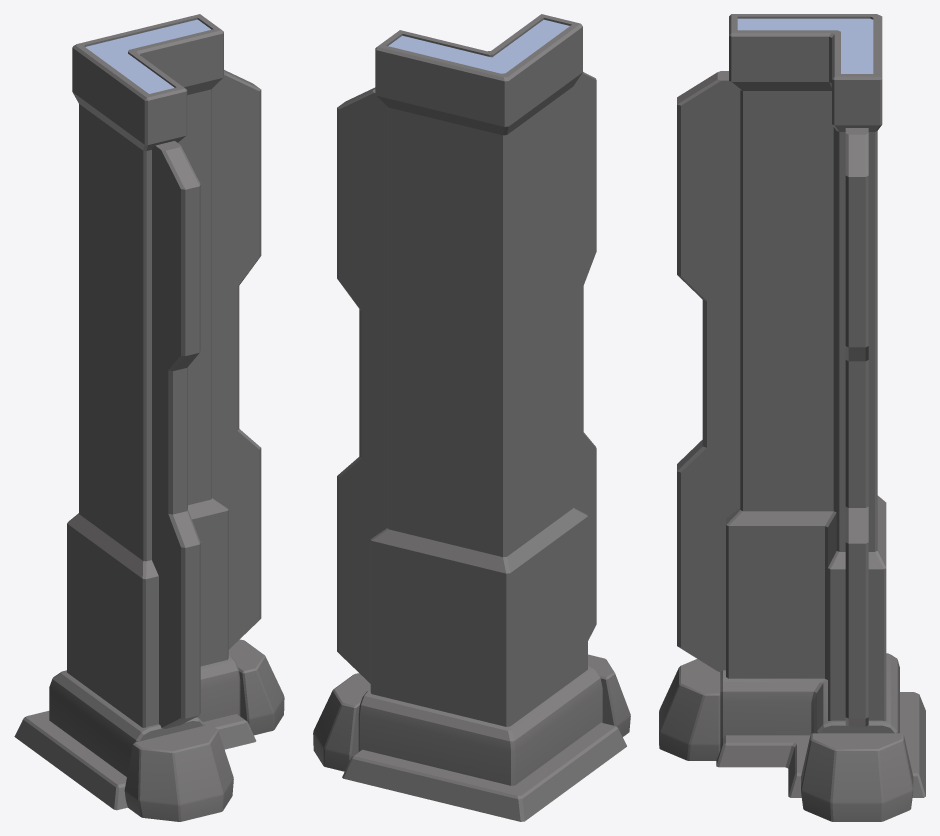
Rendered from Barriere_02_Coin_LP.fbx.
The picture shows the model from 3 angles, left to right: view 1: azimuth 30°, elevation 25°; view 2: azimuth 150°, elevation 25°; view 3: azimuth 270°, elevation 25°; orthographic projection. The views are drawn at different scales.
Visible parts, largest first — view 1: Barriere02Coin_Pilier1_low, Barriere02Coin_Pilier2_low, Barriere02Coin_Socle3_low, Barriere02Coin_Socle2_low, Barriere02Coin_Socle1_low, Barriere02Coin_PilierVerre_low; view 2: Barriere02Coin_Pilier1_low, Barriere02Coin_Pilier2_low, Barriere02Coin_Socle2_low, Barriere02Coin_Socle1_low, Barriere02Coin_Socle3_low, Barriere02Coin_PilierVerre_low; view 3: Barriere02Coin_Pilier1_low, Barriere02Coin_Pilier2_low, Barriere02Coin_Socle3_low, Barriere02Coin_Socle2_low, Barriere02Coin_Socle1_low, Barriere02Coin_PilierVerre_low.
Part boxes in pixels (box(x1,y1,x2,y2)): Barriere02Coin_Pilier1_low: box(67, 14, 228, 727); Barriere02Coin_Pilier2_low: box(152, 70, 261, 728); Barriere02Coin_Socle3_low: box(124, 639, 284, 821); Barriere02Coin_Socle2_low: box(49, 655, 240, 776); Barriere02Coin_Socle1_low: box(14, 711, 256, 810); Barriere02Coin_PilierVerre_low: box(85, 19, 210, 93); Barriere02Coin_Pilier1_low: box(370, 14, 587, 726); Barriere02Coin_Pilier2_low: box(337, 72, 596, 683); Barriere02Coin_Socle2_low: box(358, 666, 602, 785); Barriere02Coin_Socle1_low: box(342, 722, 626, 821); Barriere02Coin_Socle3_low: box(313, 654, 630, 771); Barriere02Coin_PilierVerre_low: box(388, 19, 569, 73); Barriere02Coin_Pilier1_low: box(726, 14, 886, 720); Barriere02Coin_Pilier2_low: box(677, 71, 868, 726); Barriere02Coin_Socle3_low: box(659, 659, 913, 821); Barriere02Coin_Socle2_low: box(720, 653, 899, 743); Barriere02Coin_Socle1_low: box(716, 692, 925, 797); Barriere02Coin_PilierVerre_low: box(737, 18, 873, 73).
Bounding box in the file's own units: 0.6281 × 1.86 × 0.6281.
